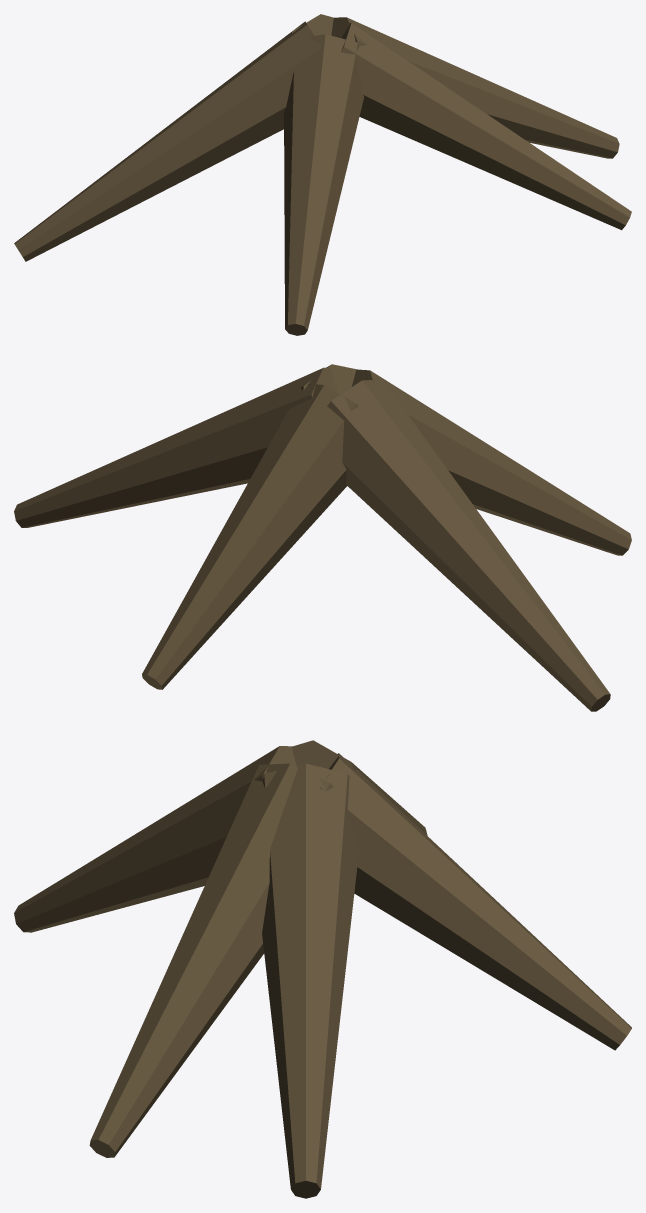
The model's file is root-clump.glb.
3 renders of one model, top to bottom at view 1: azimuth 30°, elevation 25°; view 2: azimuth 150°, elevation 25°; view 3: azimuth 270°, elevation 25°, orthographic. The views are drawn at different scales.
Visible parts, largest first — view 1: root-clump__body; view 2: root-clump__body; view 3: root-clump__body.
Part boxes in pixels (x1,y1,x2,y2): root-clump__body: [14, 14, 631, 335]; root-clump__body: [14, 364, 631, 711]; root-clump__body: [14, 740, 631, 1198].
Size of the model in its own units: 1.58 by 0.5516 by 1.15.
